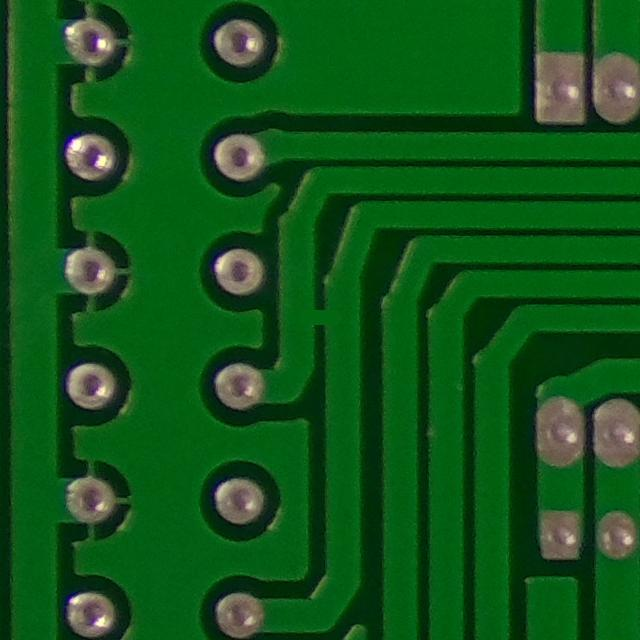short: (278, 272, 362, 368)
